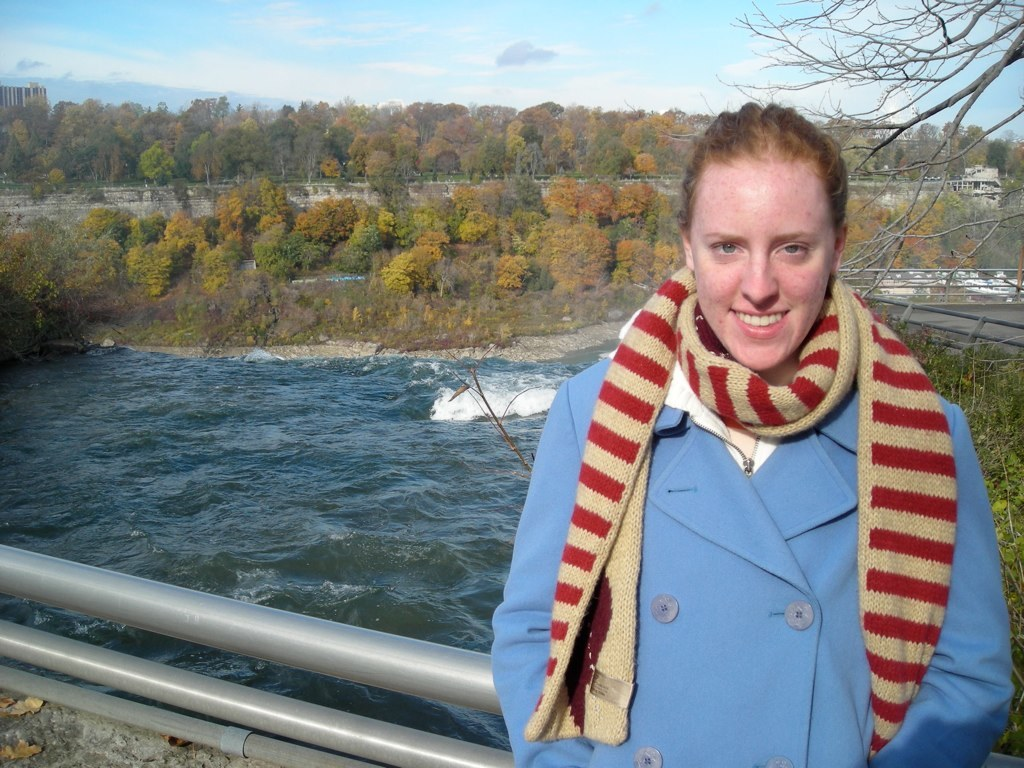Tree: (0, 172, 684, 372), (718, 0, 1022, 297), (1, 83, 723, 188), (817, 103, 1022, 191), (839, 200, 1022, 291)
